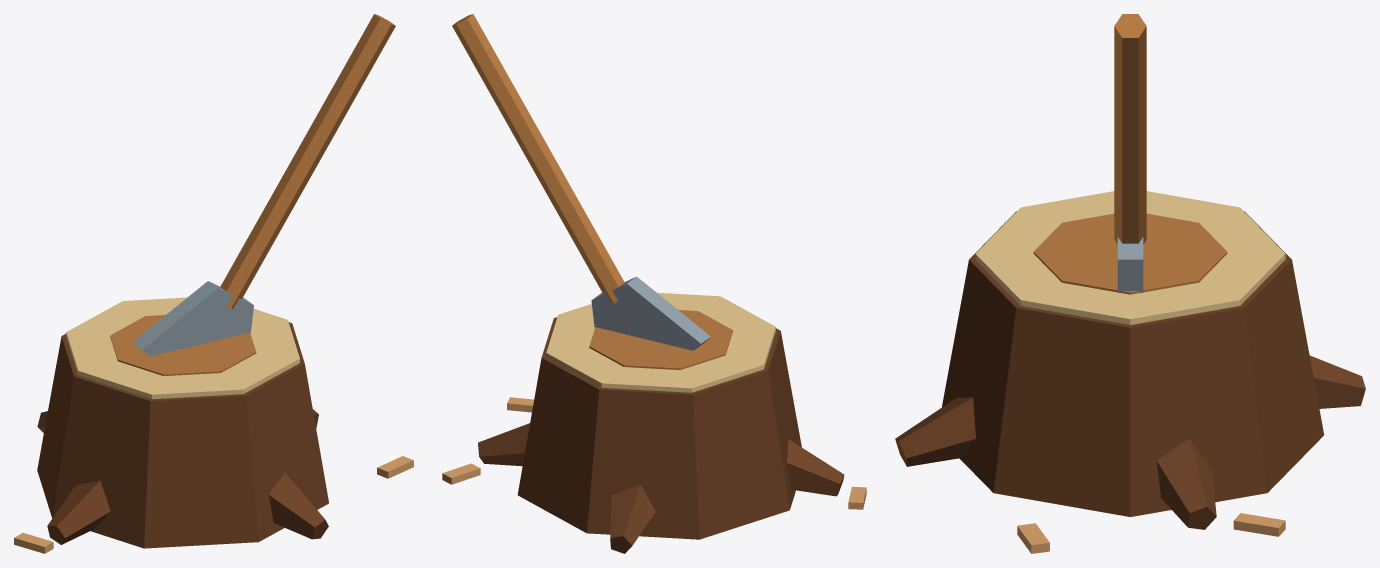
File: AxeInStump.fbx
3 views of the same model, side by side, from view 1: azimuth 30°, elevation 25°; view 2: azimuth 150°, elevation 25°; view 3: azimuth 270°, elevation 25° (orthographic). The views are drawn at different scales.
Parts seen in each view (by area): view 1: Axe In Stump; view 2: Axe In Stump; view 3: Axe In Stump.
Part boxes in pixels (bbox=[...]): Axe In Stump: bbox=[14, 14, 413, 553]; Axe In Stump: bbox=[442, 14, 866, 553]; Axe In Stump: bbox=[895, 14, 1365, 553].
Bounding box in the file's own units: 5.46 × 5.56 × 4.37.
Materials: 1 (1 with a texture image).
